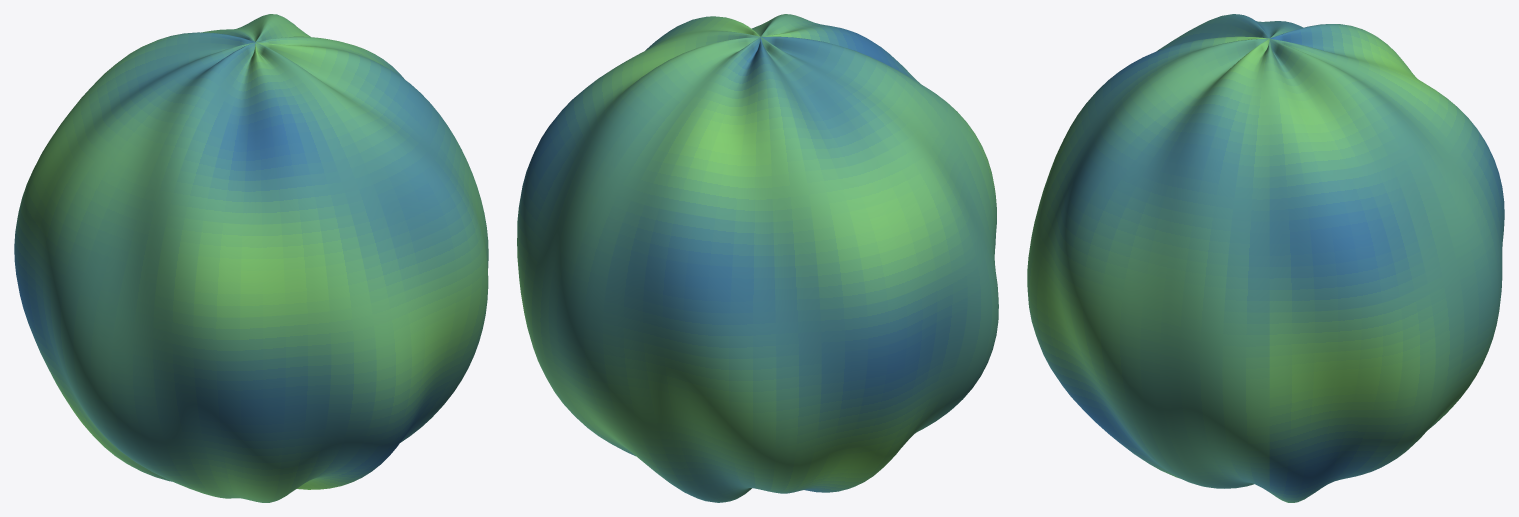
Rendered from NebulaPlanet.glb.
The picture shows the model from 3 angles, left to right: view 1: azimuth 30°, elevation 25°; view 2: azimuth 150°, elevation 25°; view 3: azimuth 270°, elevation 25°; orthographic projection.
Parts seen in each view (by area): view 1: NebulaPlanet; view 2: NebulaPlanet; view 3: NebulaPlanet.
Boxes of the visible parts, box(x1,y1,x2,y2) form: NebulaPlanet: box(14, 14, 488, 502); NebulaPlanet: box(517, 14, 998, 502); NebulaPlanet: box(1027, 14, 1504, 502).
Bounding box in the file's own units: 20.24 × 20.51 × 20.2.
1 material, 1 textured.
